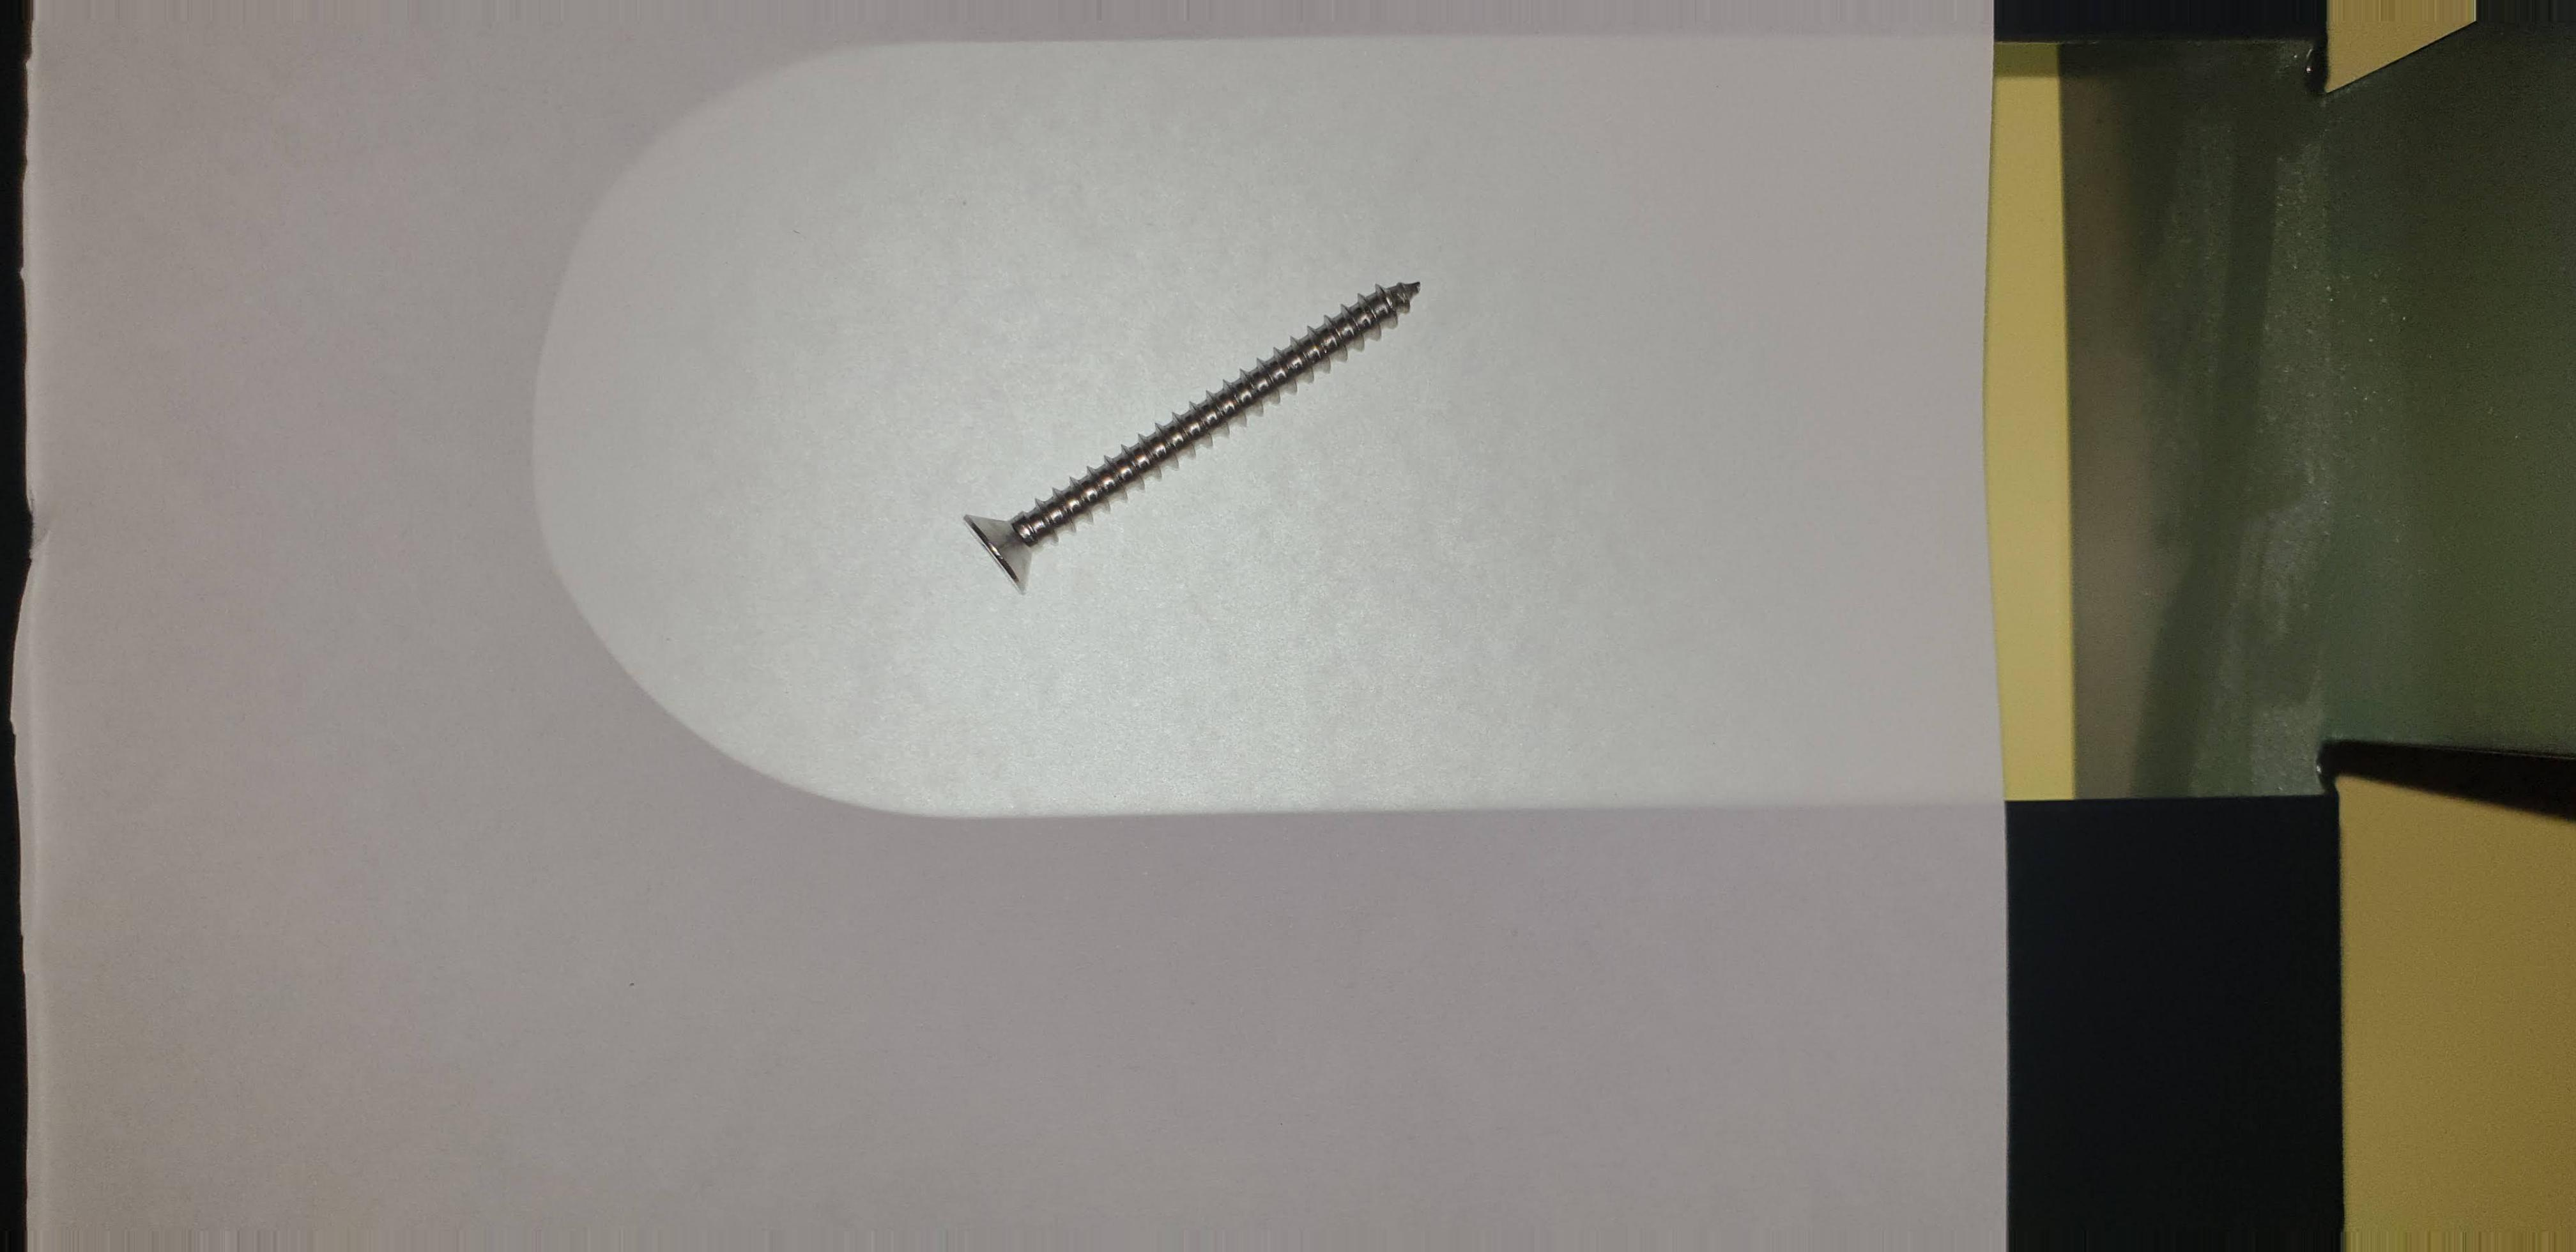fastener: (905, 246, 1551, 629)
